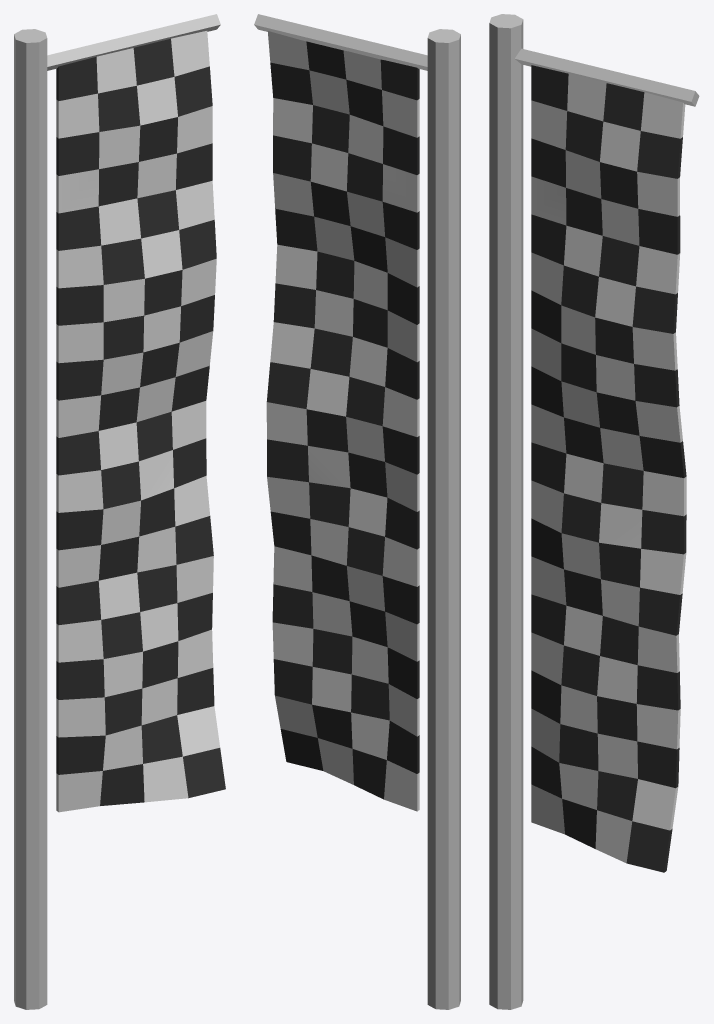
The model's file is Flag_free_obs.fbx.
3 renders of one model, left to right at view 1: azimuth 30°, elevation 25°; view 2: azimuth 150°, elevation 25°; view 3: azimuth 330°, elevation 25°, orthographic.
Visible parts, largest first — view 1: Flag_free_obs; view 2: Flag_free_obs; view 3: Flag_free_obs.
Part boxes in pixels (left/top/right/bottom): Flag_free_obs: left=14, top=14, right=225, bottom=1009; Flag_free_obs: left=254, top=14, right=460, bottom=1009; Flag_free_obs: left=489, top=14, right=699, bottom=1009.
Size of the model in its own units: 135 by 620 by 33.13.
1 material, 1 textured.
